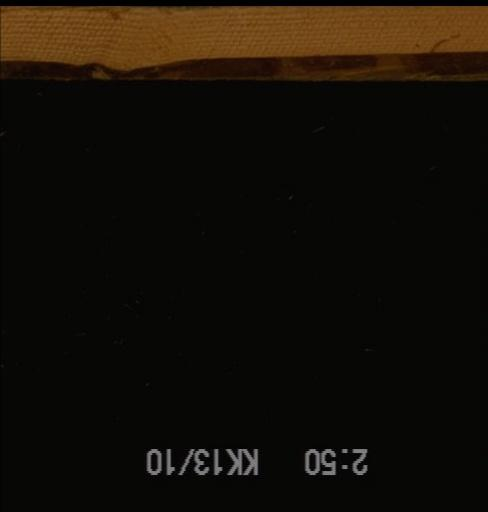wave: (0, 53, 486, 80)
